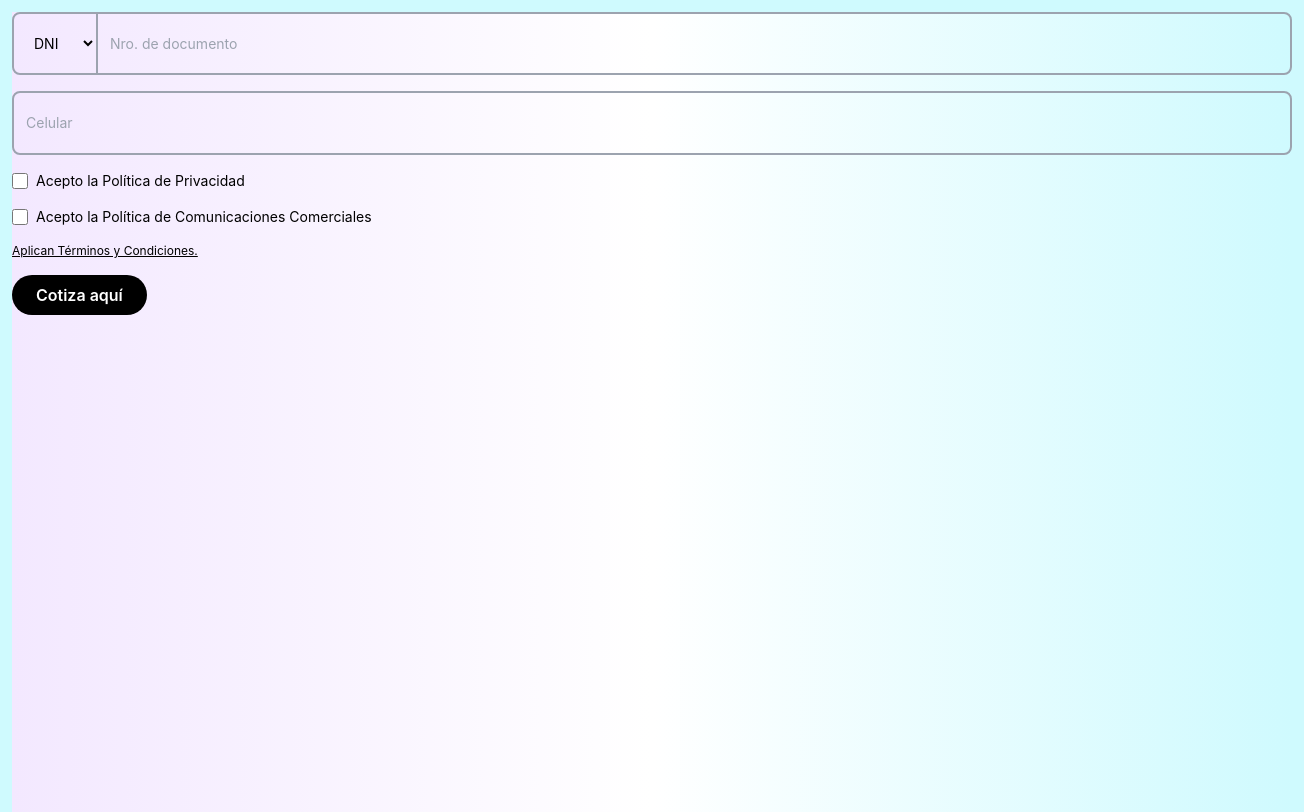
Test: LoginForm component › debe mostrar error si los campos no son numéricos
Type "ABC123" into the field with placeholder "Nro. de documento" at (694,44), box [98,14,1290,73]
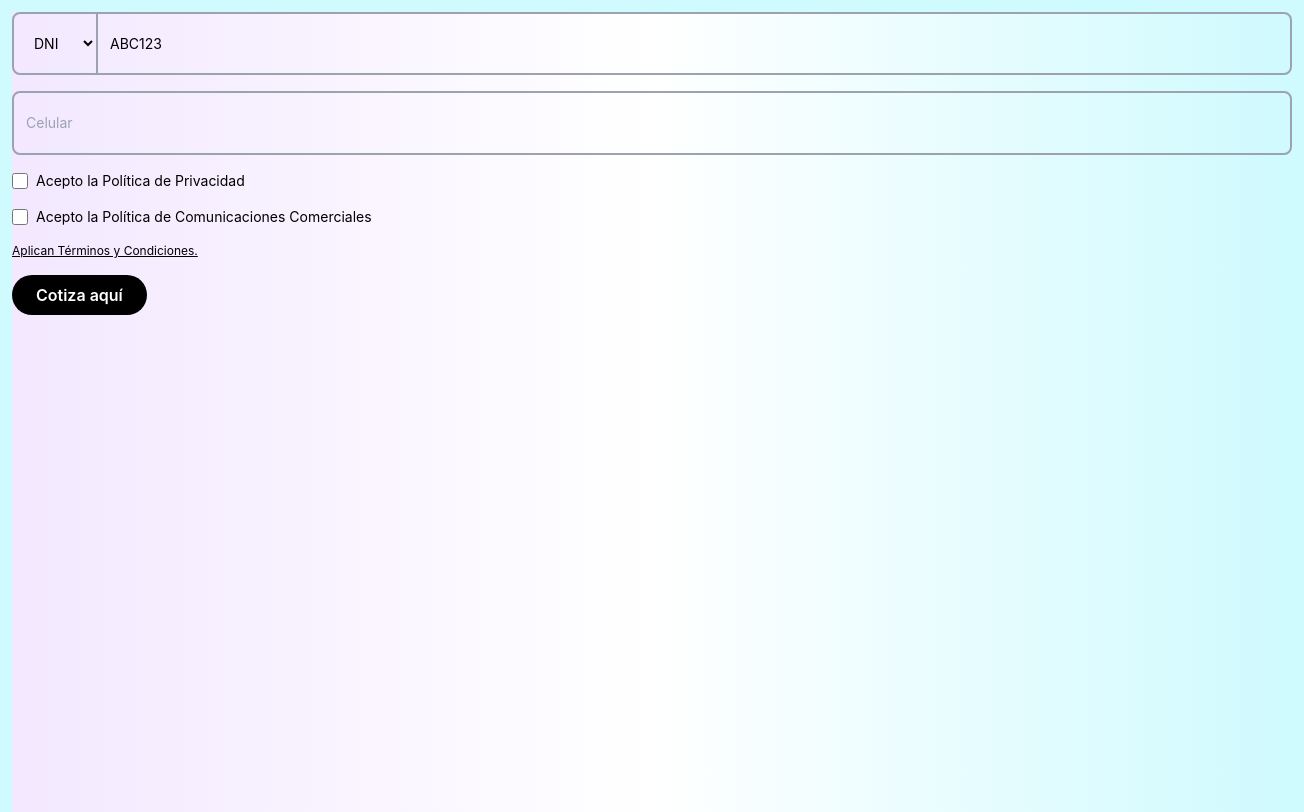
Type "999XYZ" into the field with placeholder "Celular" at (652,123), box [12,91,1292,155]
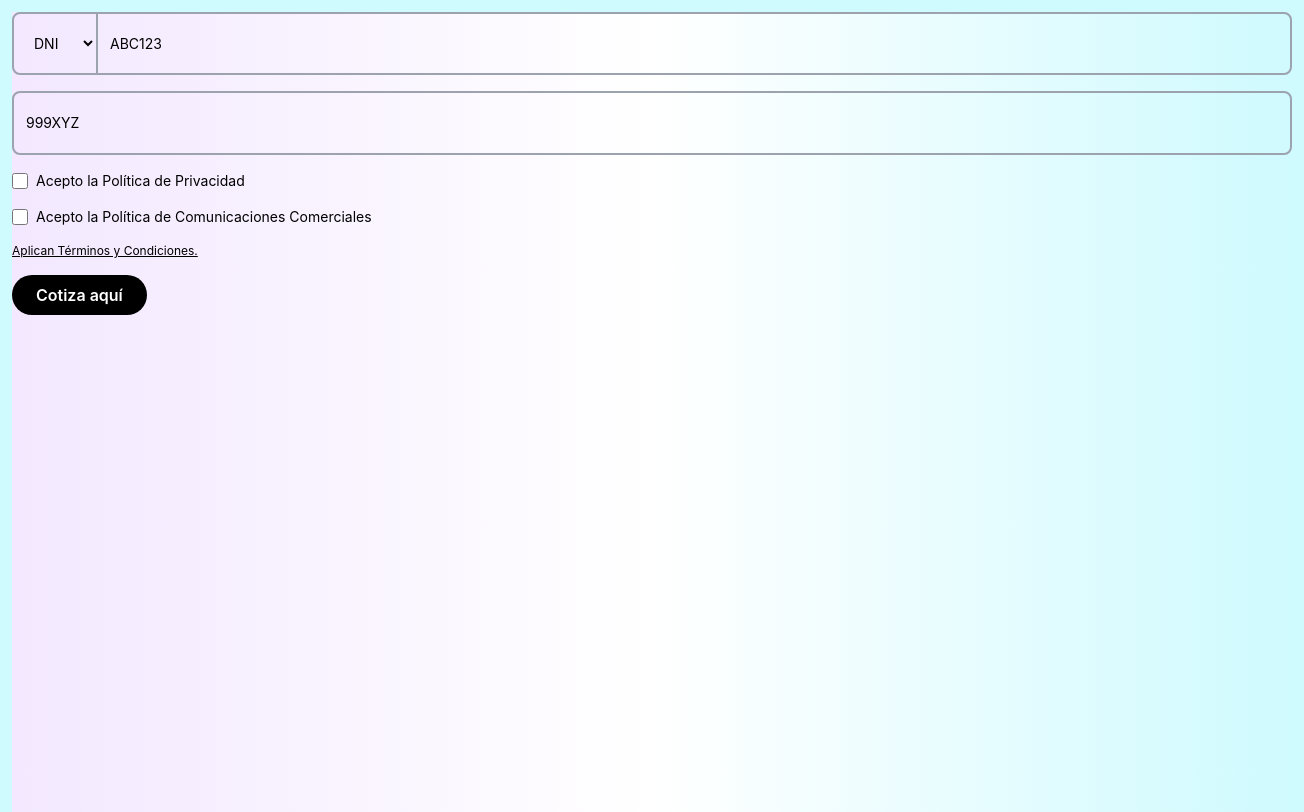
Click the checkbox labelled "Acepto la Política de Privacidad" at (20,181), box [12,173,28,189]
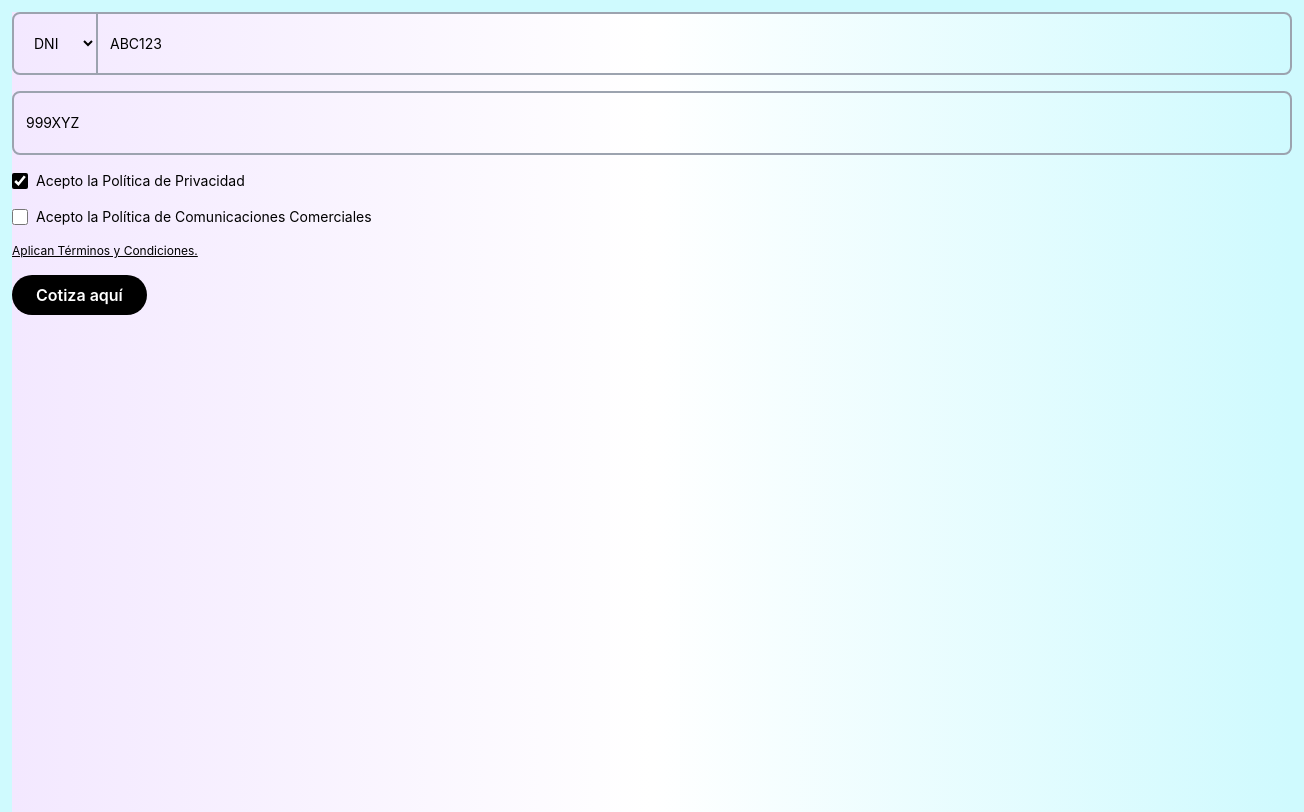
Click the checkbox labelled "Acepto la Política de Comunicaciones Comerciales" at (20,217), box [12,209,28,225]
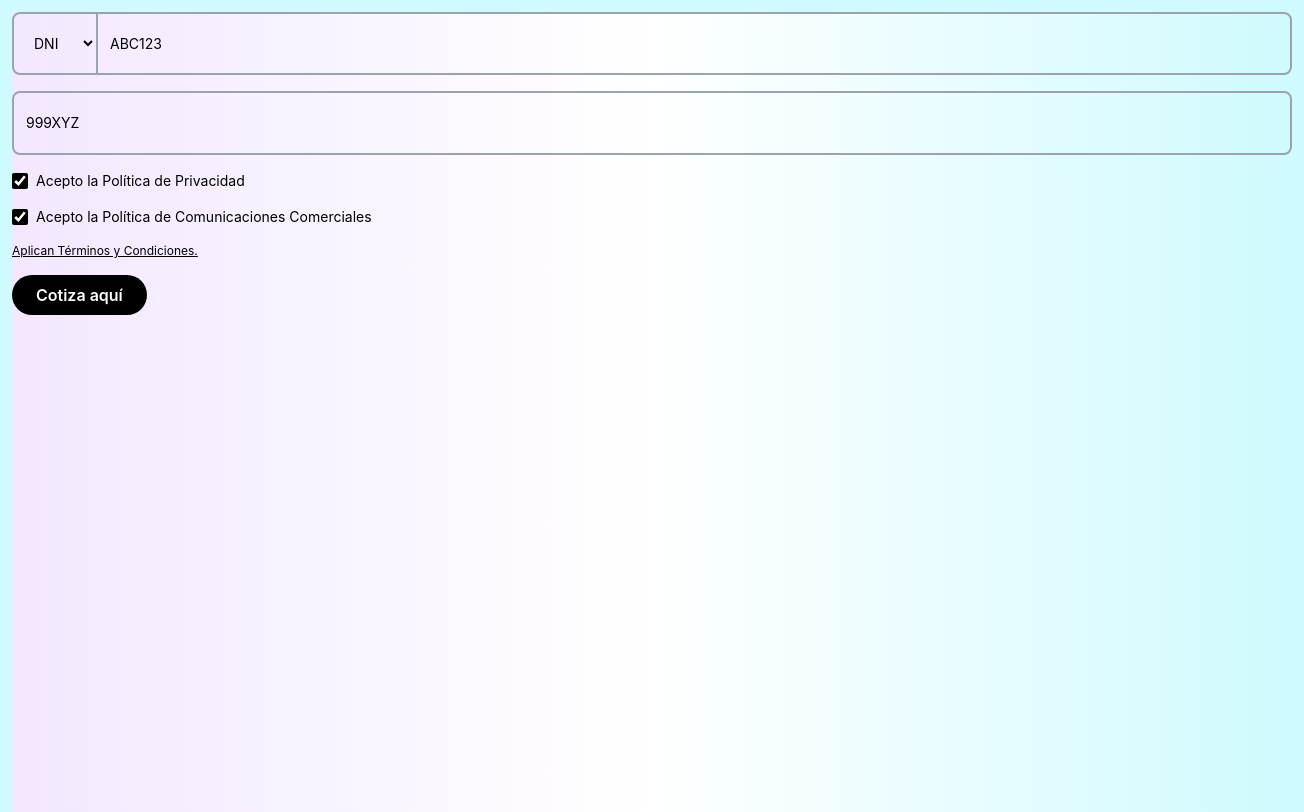
Click the button "Cotiza aquí" at (79,295), box [12,275,147,315]
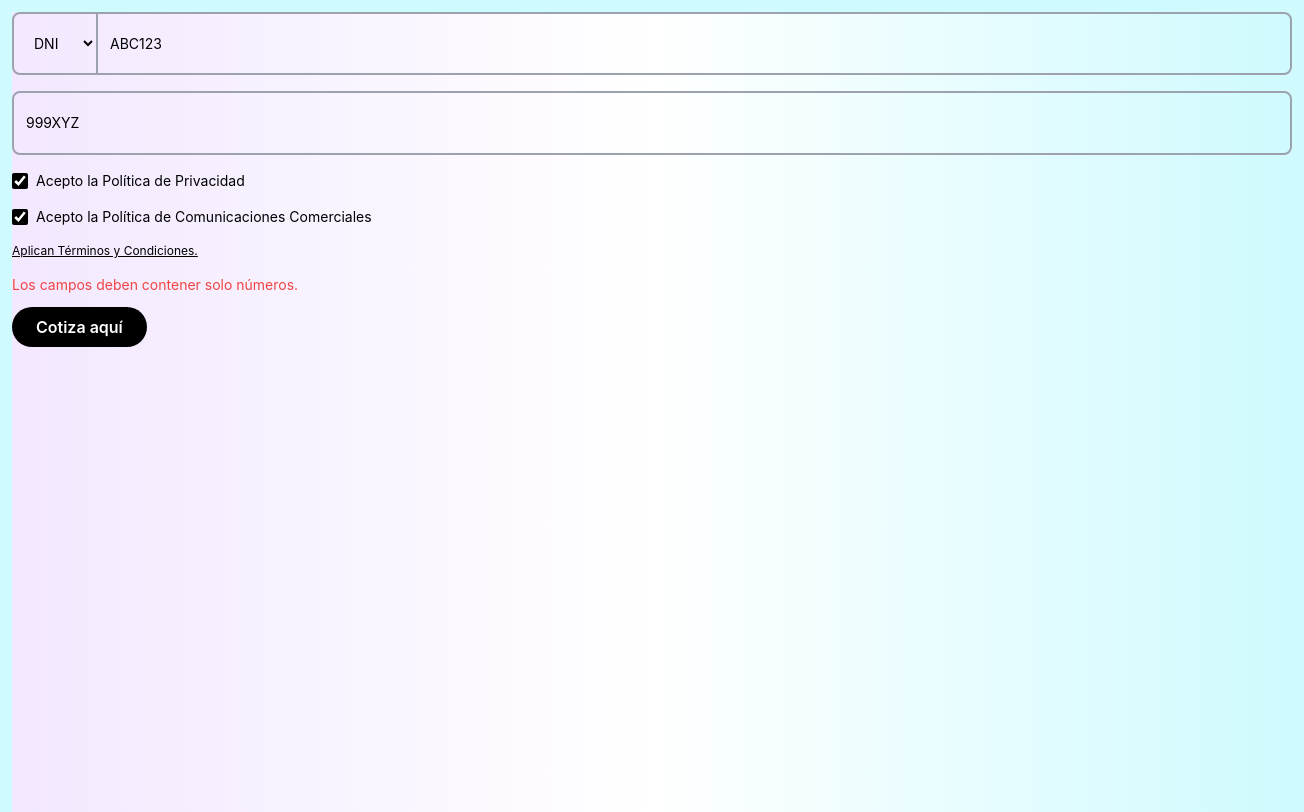
Check: the text "Los campos deben contener solo números." is shown, box [12,276,298,293]
